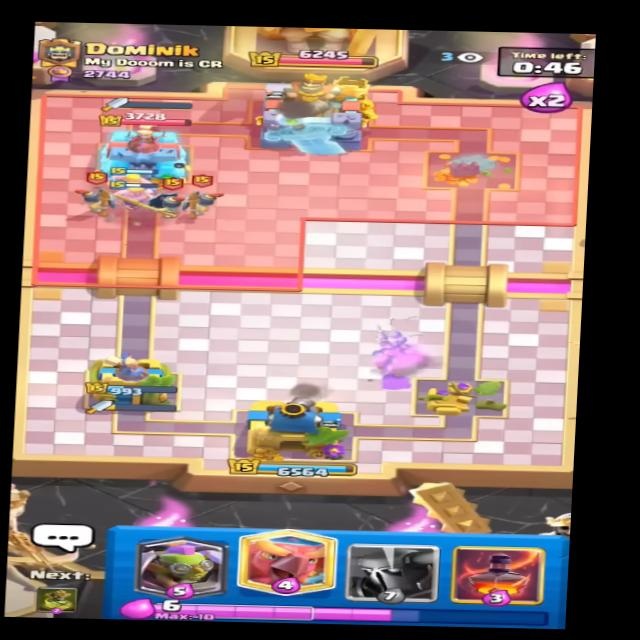guards: (151, 190, 191, 219), (78, 186, 113, 215), (188, 187, 223, 216)
